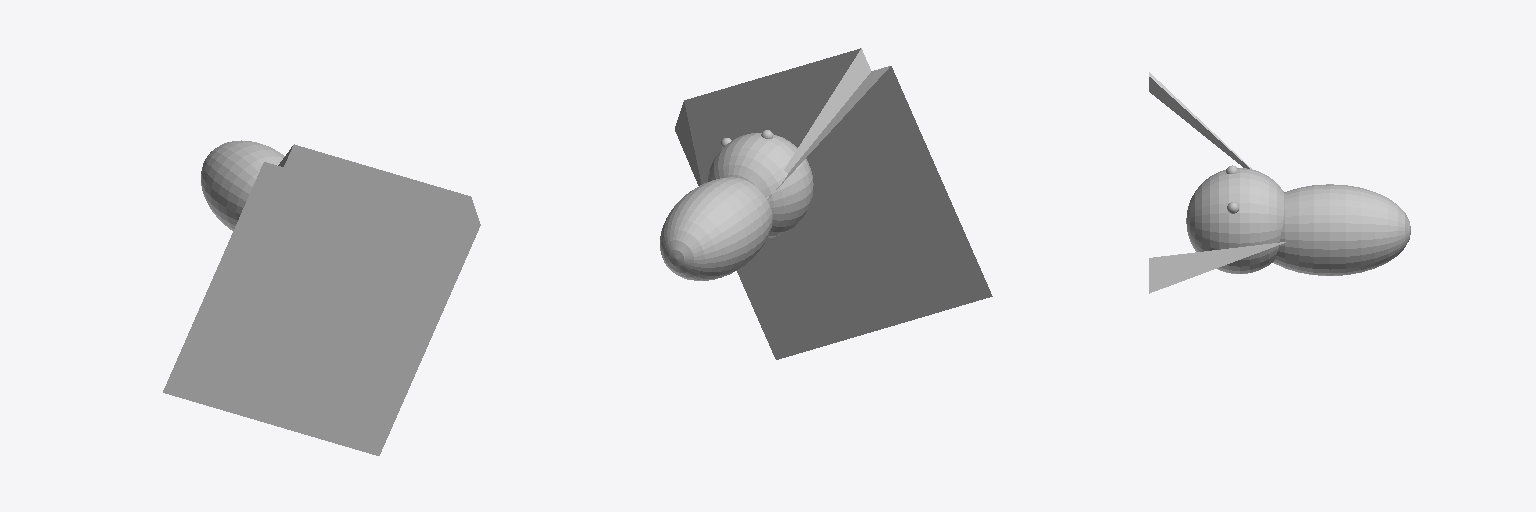
Rendered from ModelProtoype1.obj.
3 renders of one model, left to right at view 1: azimuth 30°, elevation 25°; view 2: azimuth 150°, elevation 25°; view 3: azimuth 270°, elevation 25°, orthographic.
Visible parts, largest first — view 1: Plane, Sphere.001_Sphere.004; view 2: Plane, Sphere.001_Sphere.004; view 3: Sphere.001_Sphere.004, Plane.
Boxes of the visible parts, box(x1,y1,x2,y2) form: Plane: box(163, 144, 480, 455); Sphere.001_Sphere.004: box(201, 140, 284, 230); Plane: box(675, 48, 992, 359); Sphere.001_Sphere.004: box(660, 133, 813, 280); Sphere.001_Sphere.004: box(1186, 168, 1410, 275); Plane: box(1149, 72, 1285, 293).
Size of the model in its own units: 3.9 by 3.9 by 2.79.